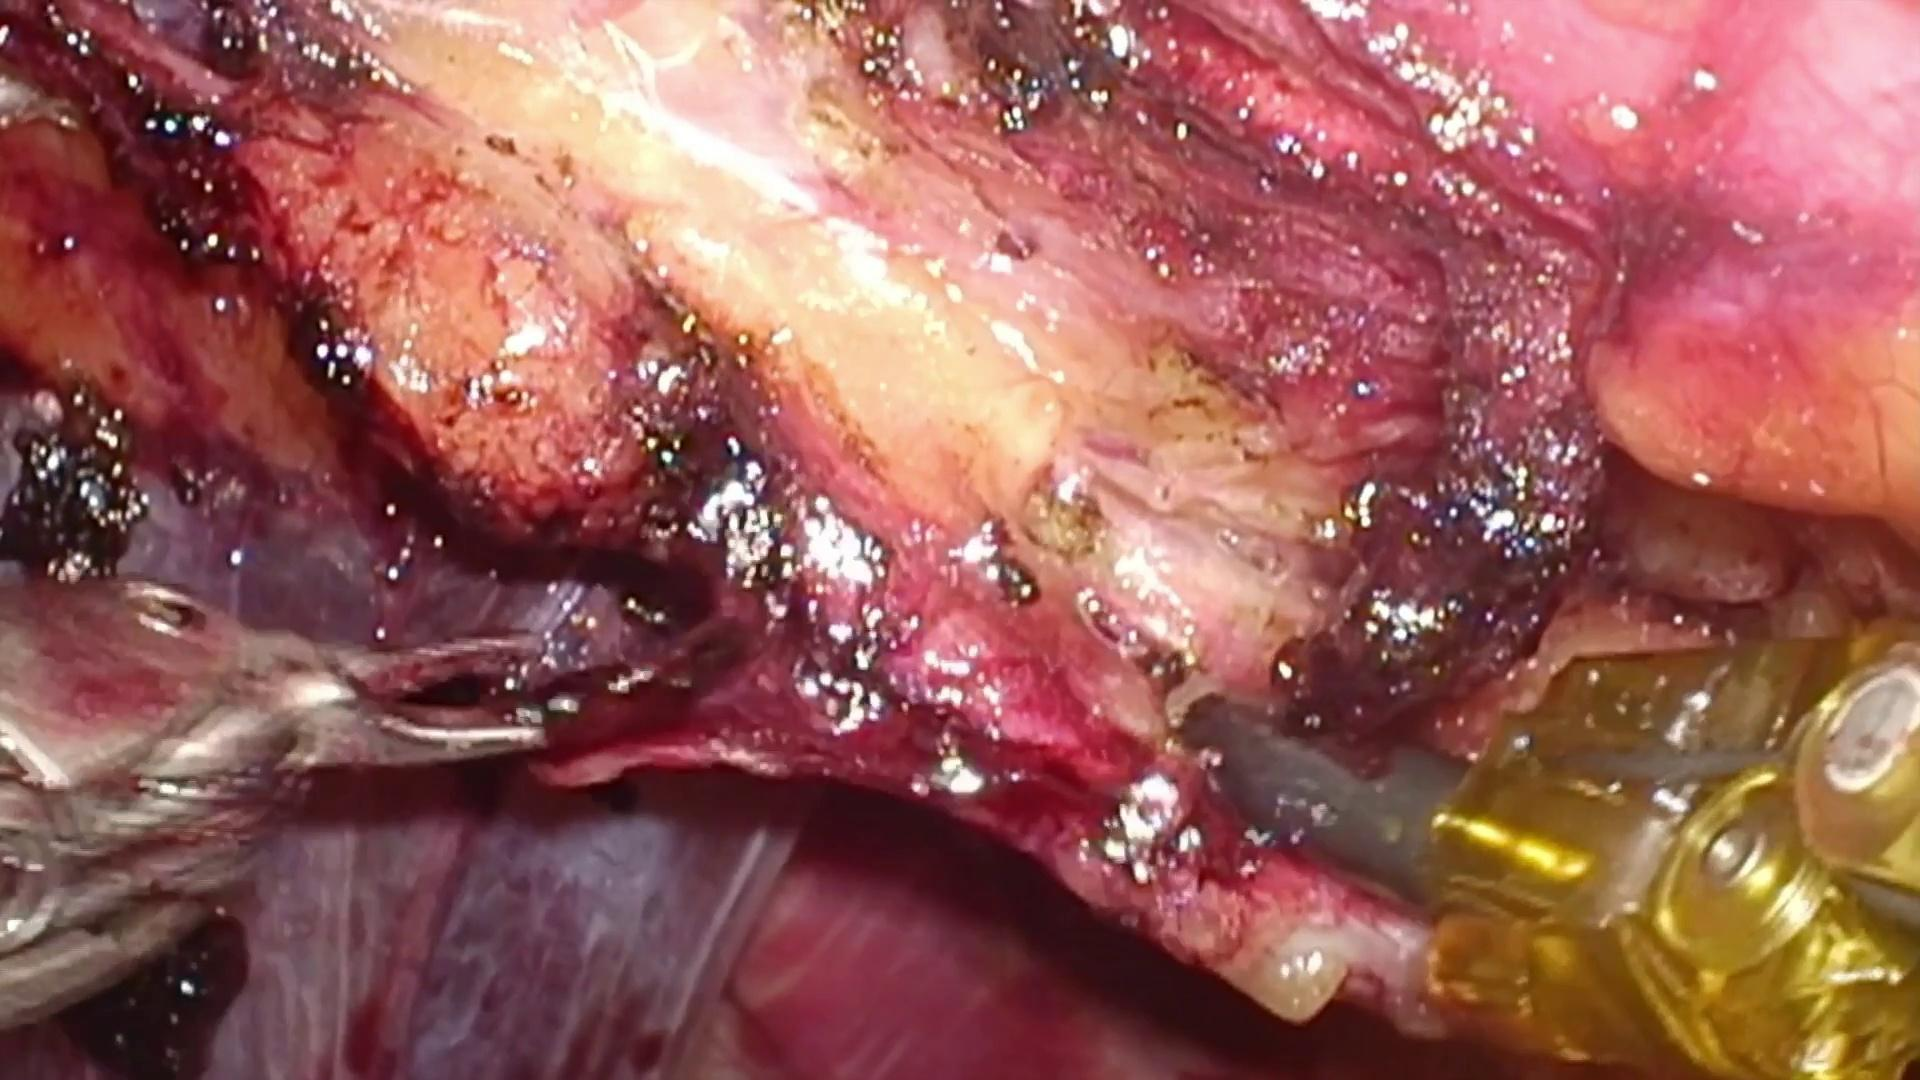Cautery_Spatula: (1164, 673, 1462, 895)
Debakey: (175, 591, 558, 787)
